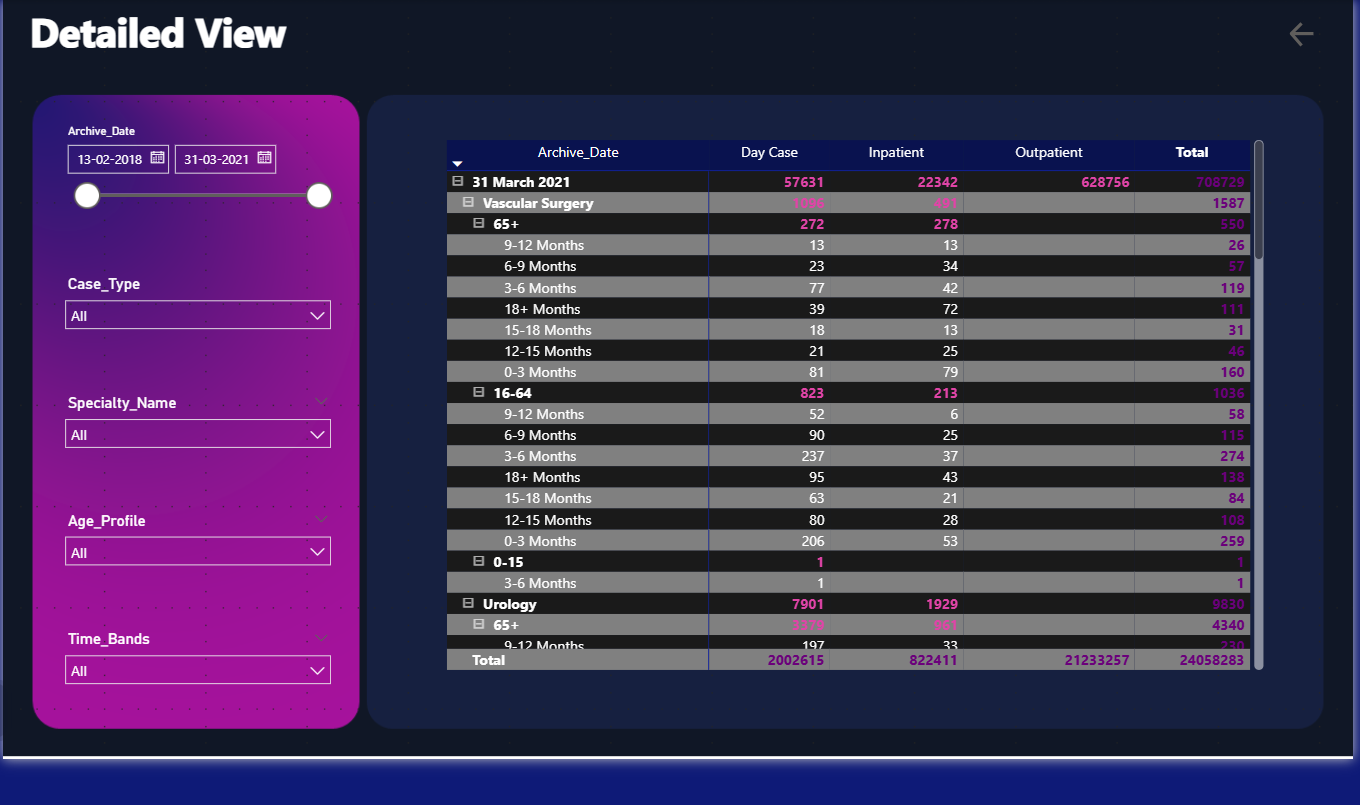

This screenshot's page, from the dashboard's own definition file:
{"tool":"powerbi","page":{"name":"Detail","canvas":[1280,720],"ordinal":1},"visuals":[{"type":"slicer","fields":{"Values":["All_Data.Case_Type"]},"box":[48,256,272,64],"z":0},{"type":"slicer","fields":{"Values":["All_Data.Specialty_Name"]},"box":[48,368,272,64],"z":1000},{"type":"slicer","fields":{"Values":["All_Data.Archive_Date"]},"box":[48,112,272,96],"z":2000},{"type":"textbox","box":[0,0,320,80],"z":3000},{"type":"slicer","fields":{"Values":["All_Data.Age_Profile"]},"box":[48,480,272,64],"z":4000},{"type":"slicer","fields":{"Values":["All_Data.Time_Bands"]},"box":[48,592,272,64],"z":5000},{"type":"pivotTable","fields":{"Rows":["All_Data.Archive_Date","All_Data.Specialty_Name","All_Data.Age_Profile","All_Data.Time_Bands"],"Columns":["All_Data.Case_Type"],"Values":["Sum(All_Data.Total)"]},"box":[416,128,784,512],"z":6000},{"type":"actionButton","box":[1216,16,48,32],"z":7000}]}

Visuals, with their boxes on the page's 1280x720 design canvas (x1, y1, x2, y2). These are canvas units, not pixel positions in the 1360x805 screenshot, which may show the page scaled, cropped or inside an application window:
slicer - All_Data.Case_Type: 48/256/320/320
slicer - All_Data.Specialty_Name: 48/368/320/432
slicer - All_Data.Archive_Date: 48/112/320/208
textbox: 0/0/320/80
slicer - All_Data.Age_Profile: 48/480/320/544
slicer - All_Data.Time_Bands: 48/592/320/656
pivotTable - All_Data.Archive_Date x All_Data.Specialty_Name: 416/128/1200/640
actionButton: 1216/16/1264/48
